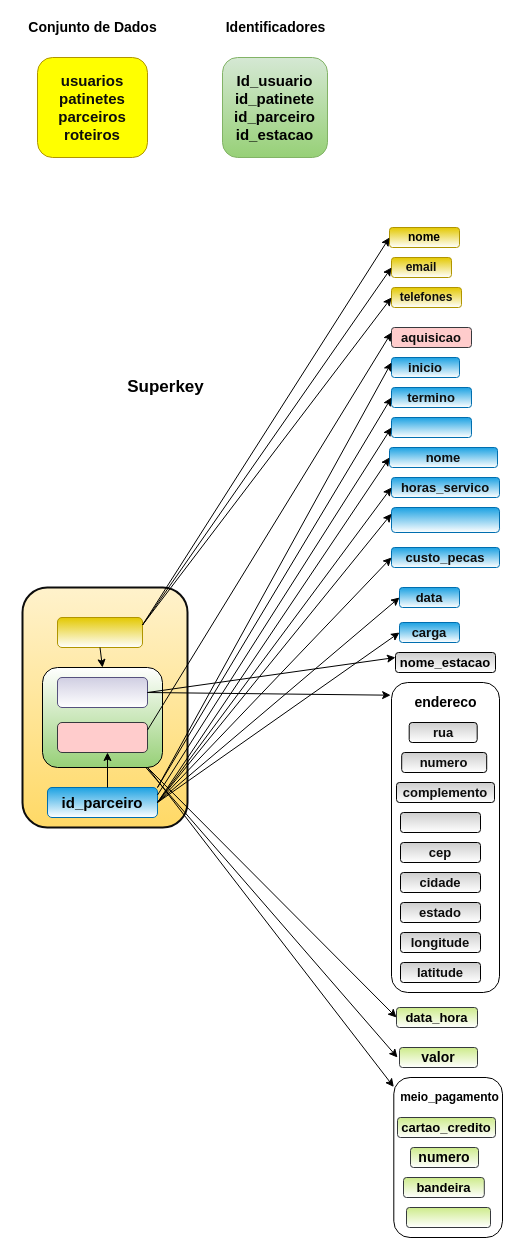
The diagram is 526 pixels wide and 1255 high, and some of its shapes have lost their labels. The shapes that lost their labels are listed below. From the top down, each one's centre as x and y in pixels, then its label:
(431,427): descricao
(445,519): custo_servico
(99,632): id_usuario
(102,692): id_estacao
(102,737): id_patinete
(440,822): bairro
(448,1217): validade
